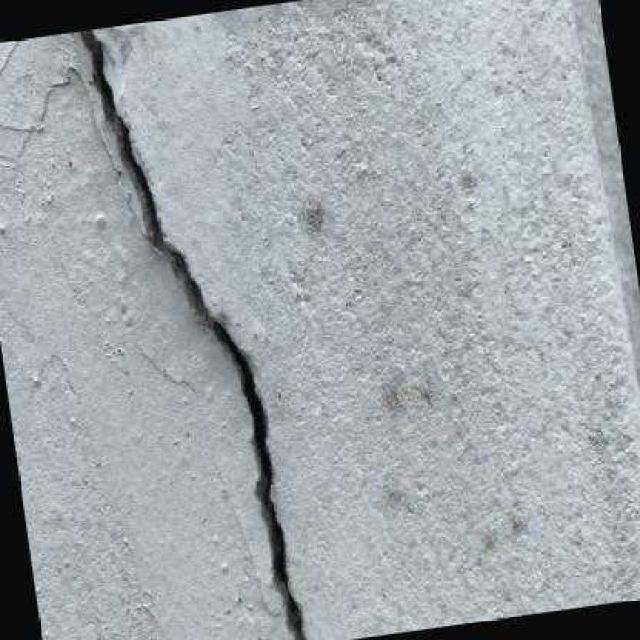D00: (74, 29, 311, 640)
